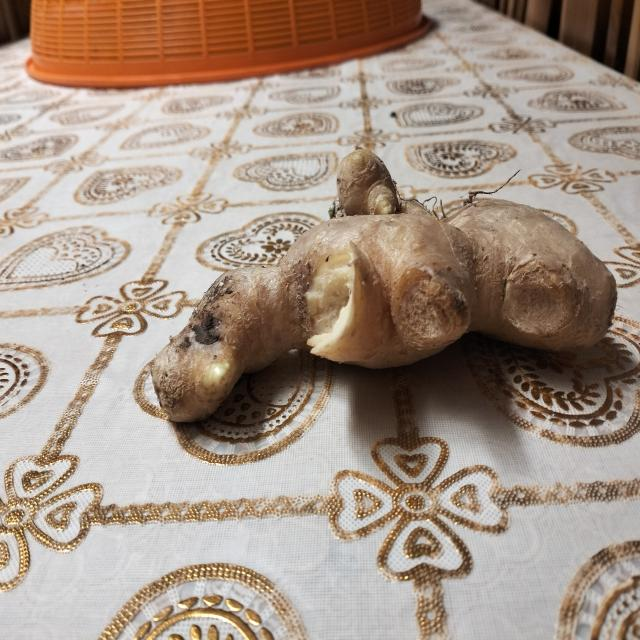ginger: (138, 120, 625, 548)
